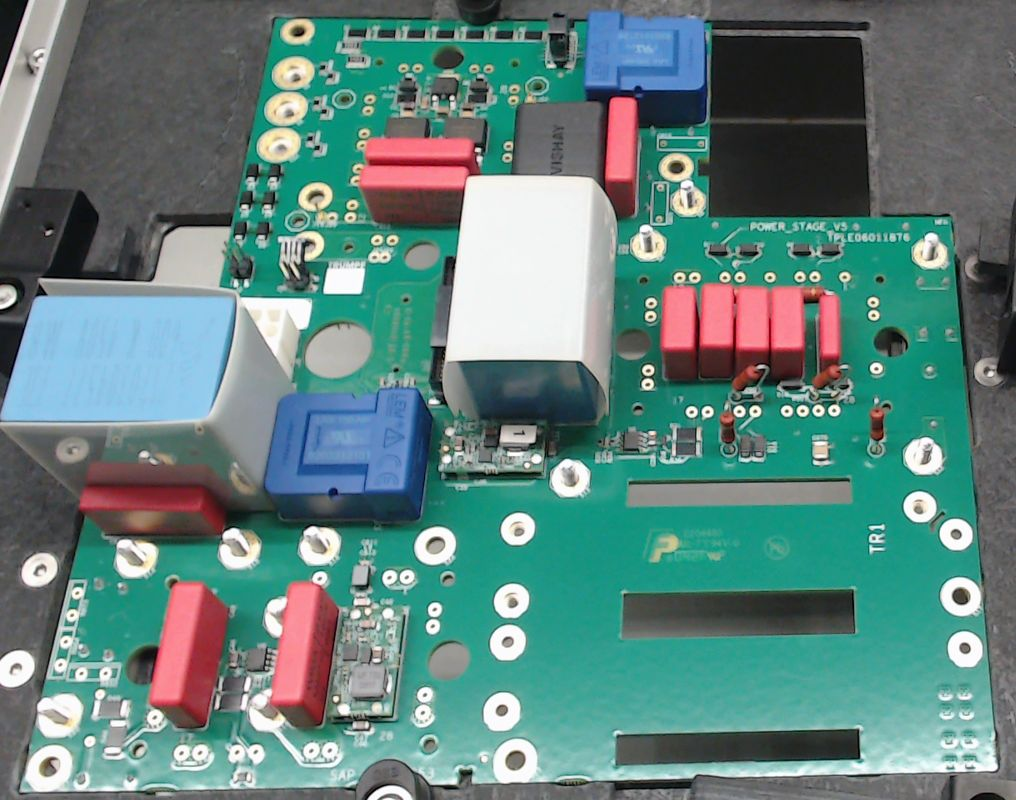comp1: (263, 385, 439, 523), (585, 9, 707, 127)
comp2: (149, 581, 229, 728), (268, 582, 340, 727), (75, 483, 229, 538), (359, 162, 470, 226), (605, 95, 638, 213), (661, 282, 699, 381), (699, 282, 737, 381), (767, 285, 805, 381), (734, 283, 769, 383), (365, 139, 477, 165), (815, 292, 843, 374)
comp3: (512, 99, 609, 180)
comp4: (1, 276, 298, 514), (444, 177, 617, 427)
